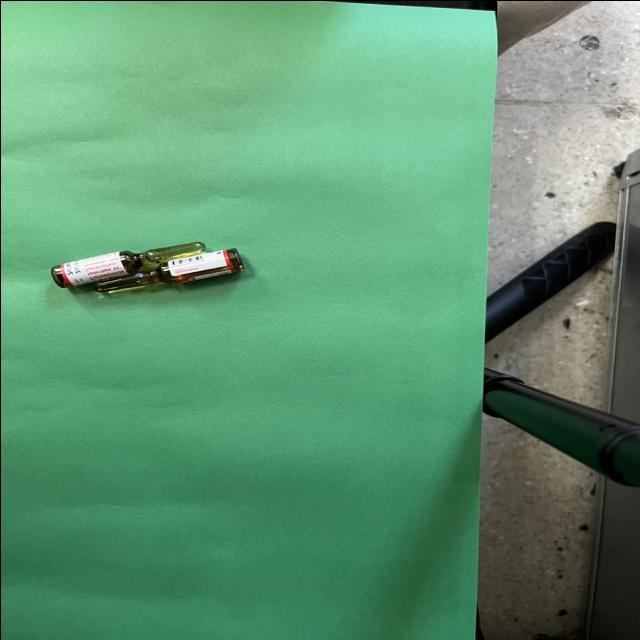Ampoules: (51, 241, 205, 286), (93, 248, 243, 292)
